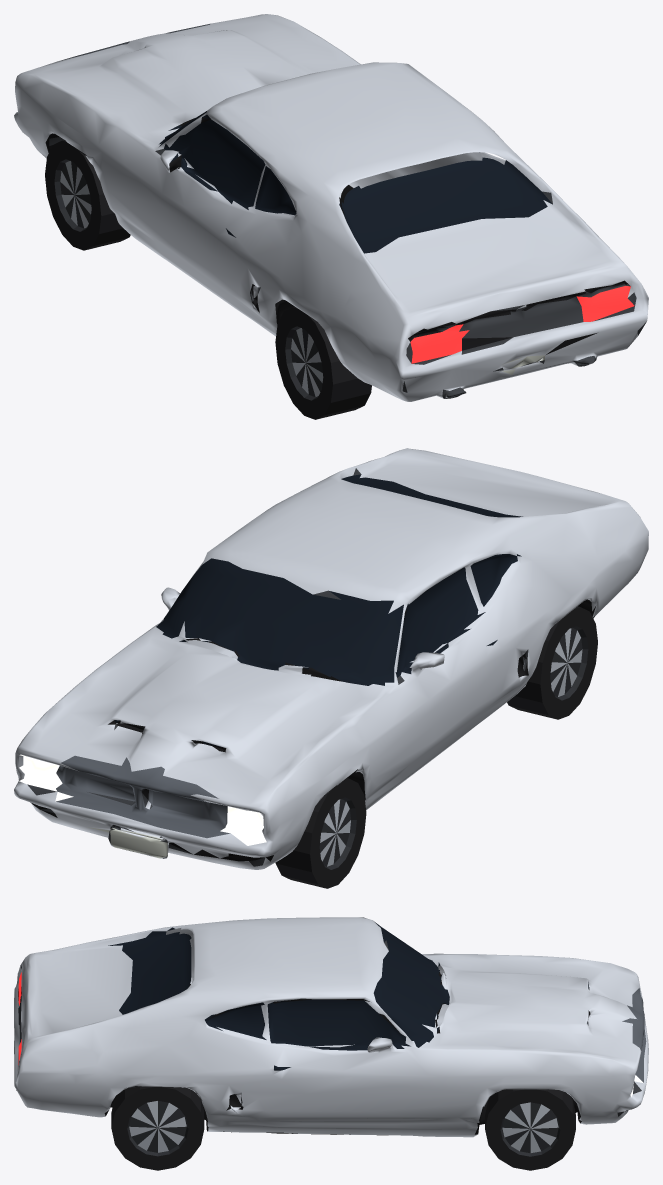
The model's file is car_falcon.glb.
3 renders of one model, top to bottom at view 1: azimuth 30°, elevation 25°; view 2: azimuth 150°, elevation 25°; view 3: azimuth 270°, elevation 25°, orthographic. The views are drawn at different scales.
Visible parts, largest first — view 1: body, wheel_r, wheel_f; view 2: body, wheel_f, wheel_r; view 3: body, wheel_r, wheel_f.
Part boxes in pixels (x1,y1,x2,y2): body: [14, 14, 648, 401]; wheel_r: [275, 306, 371, 419]; wheel_f: [45, 140, 130, 250]; body: [14, 448, 648, 869]; wheel_f: [275, 778, 366, 888]; wheel_r: [507, 606, 597, 719]; body: [14, 917, 648, 1137]; wheel_r: [111, 1086, 204, 1170]; wheel_f: [485, 1089, 575, 1170].
Size of the model in its own units: 1.81 by 1.31 by 4.45.
2 materials, 1 textured.
